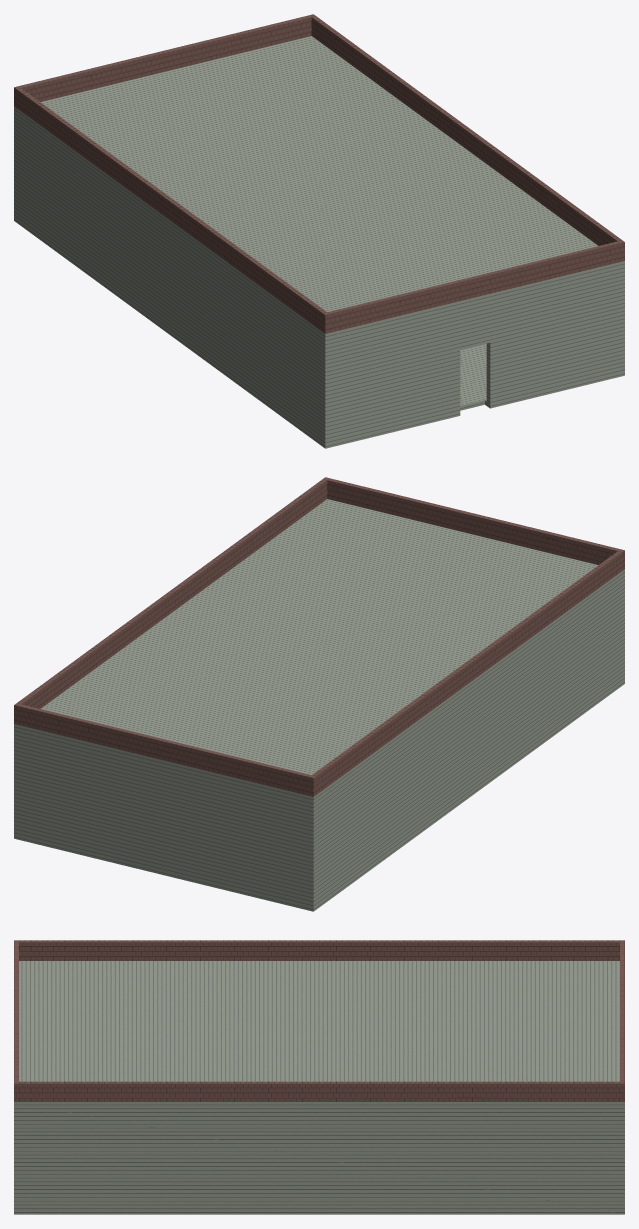
File: pharmacy_drugstore.glb
The picture shows the model from 3 angles, top to bottom: view 1: azimuth 30°, elevation 25°; view 2: azimuth 150°, elevation 25°; view 3: azimuth 270°, elevation 25°; orthographic projection.
Parts seen in each view (by area): view 1: pharmacy_drugstore-col; view 2: pharmacy_drugstore-col; view 3: pharmacy_drugstore-col.
Part boxes in pixels (x1=…): pharmacy_drugstore-col: x1=14, y1=14, x2=624, y2=448; pharmacy_drugstore-col: x1=14, y1=477, x2=624, y2=911; pharmacy_drugstore-col: x1=14, y1=940, x2=624, y2=1214.
Bounding box in the file's own units: 10 × 4.26 × 18.
Materials: 2 (2 with a texture image).
